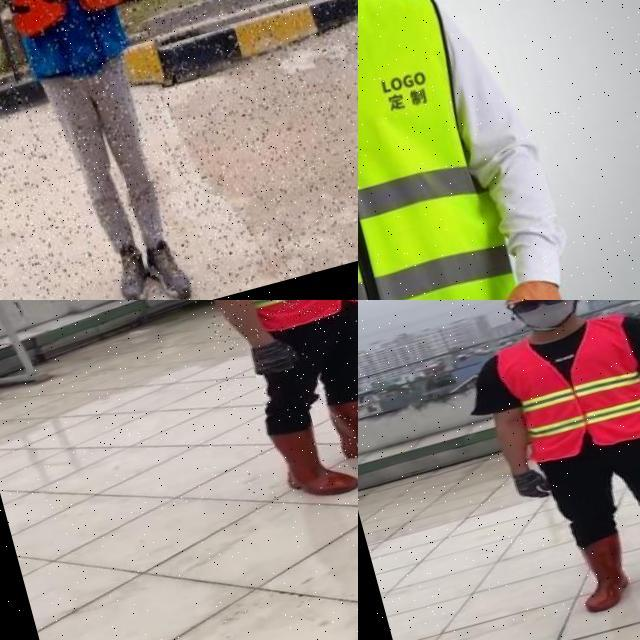boots: (259, 407, 358, 511), (568, 534, 635, 610), (139, 236, 194, 300), (325, 375, 358, 473), (108, 236, 156, 300)
vest: (358, 0, 534, 300), (490, 309, 640, 469), (0, 0, 162, 94), (181, 300, 358, 347)
